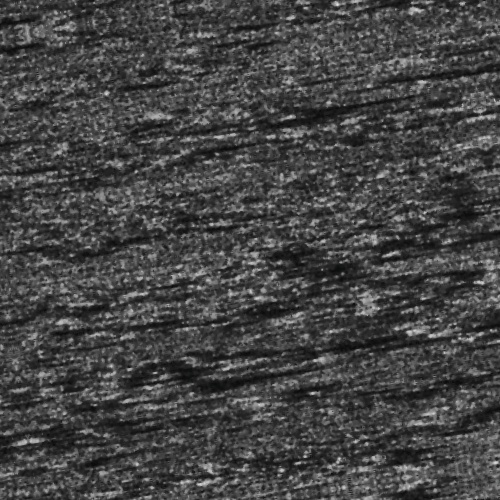object: (252, 110, 367, 129), (104, 370, 167, 381), (414, 82, 487, 87), (489, 338, 500, 345), (484, 34, 500, 37)
shadow: (310, 110, 421, 129), (136, 370, 286, 381), (450, 82, 500, 87)
